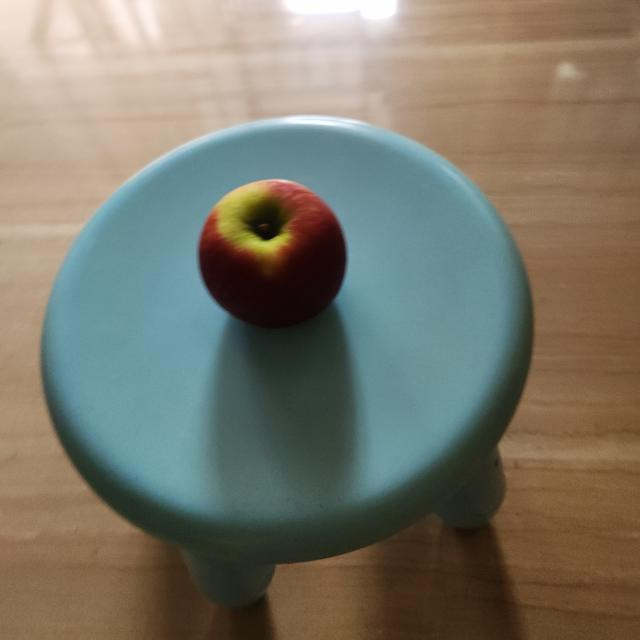apple: (192, 175, 353, 342)
